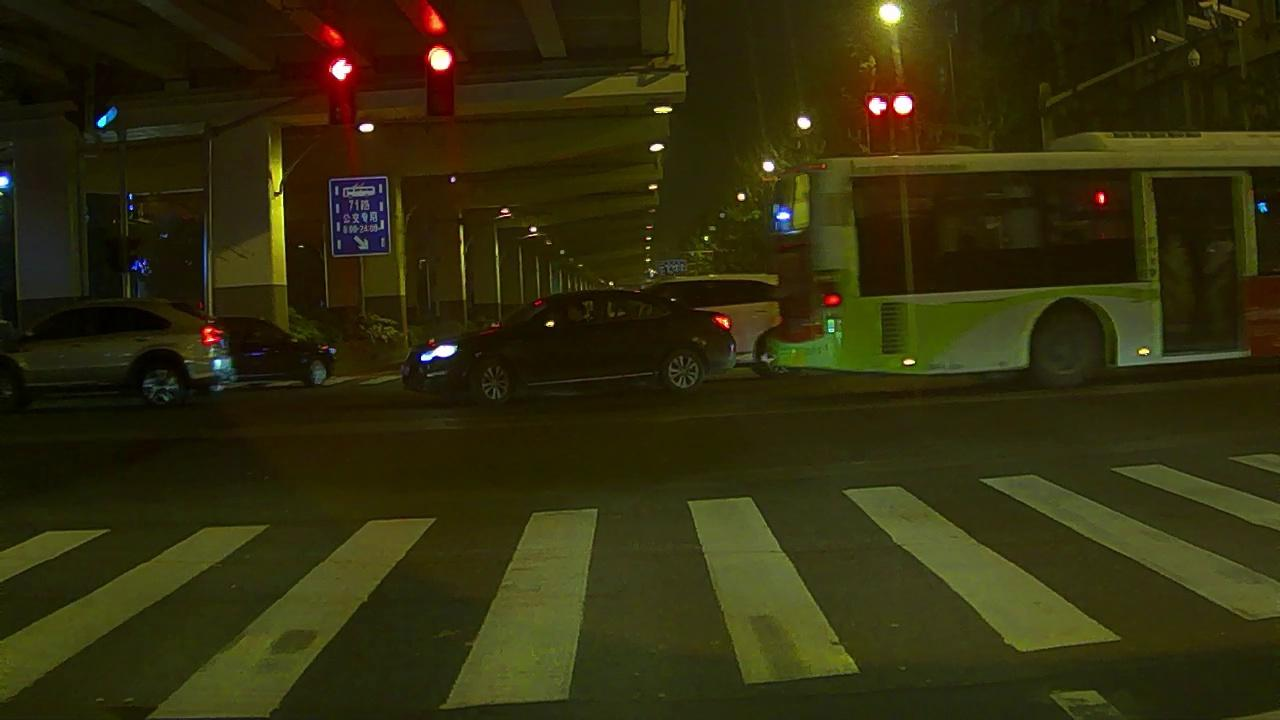traffic_light: (427, 49, 452, 112), (329, 58, 351, 124), (893, 92, 914, 146), (868, 95, 888, 147)
